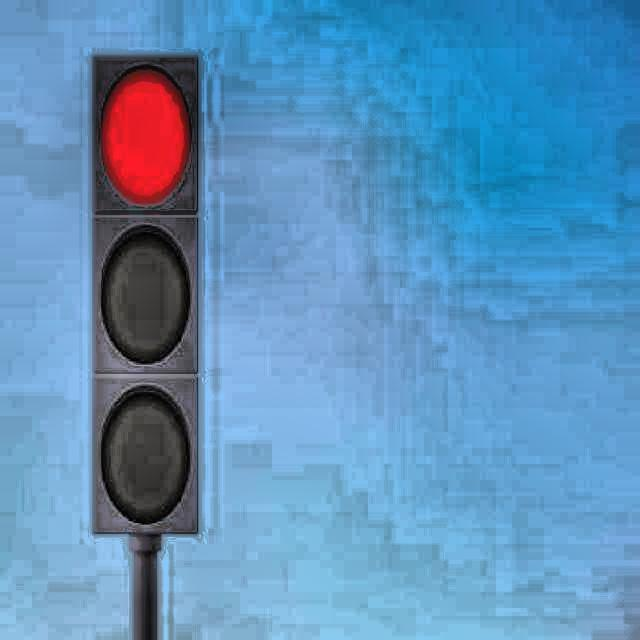red: (96, 48, 206, 537)
